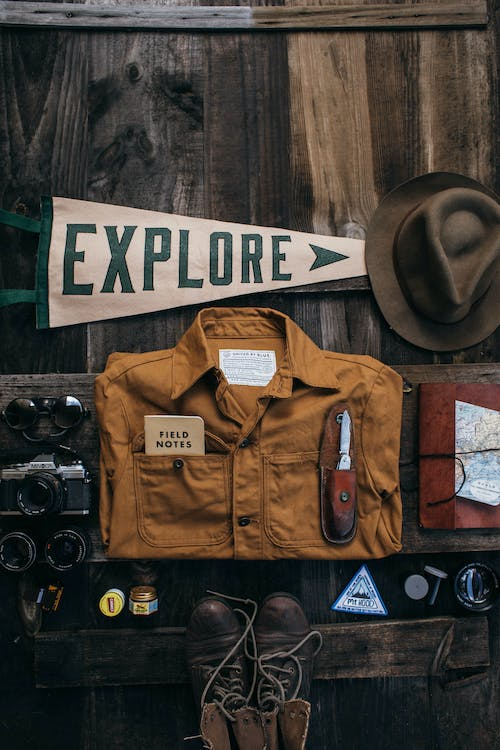knife: (335, 407, 354, 471)
